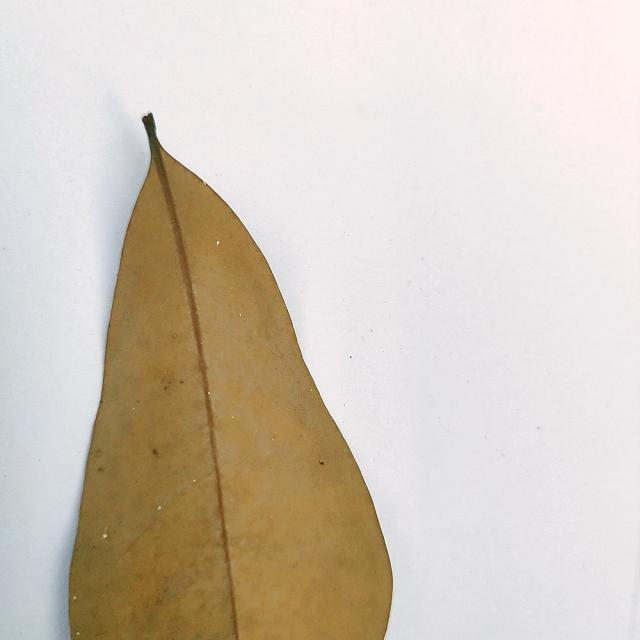Dry_Leaf-Lychee: (68, 116, 394, 639)
